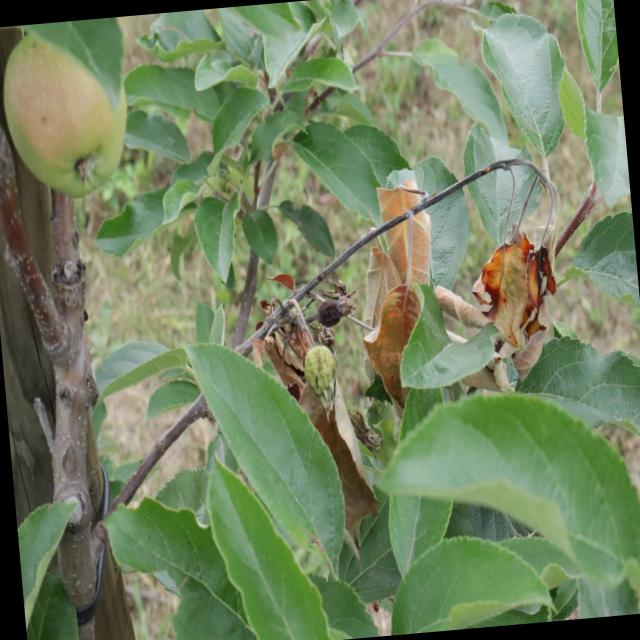-FireBlight-: (240, 276, 396, 528), (356, 180, 442, 390), (468, 221, 558, 376)
